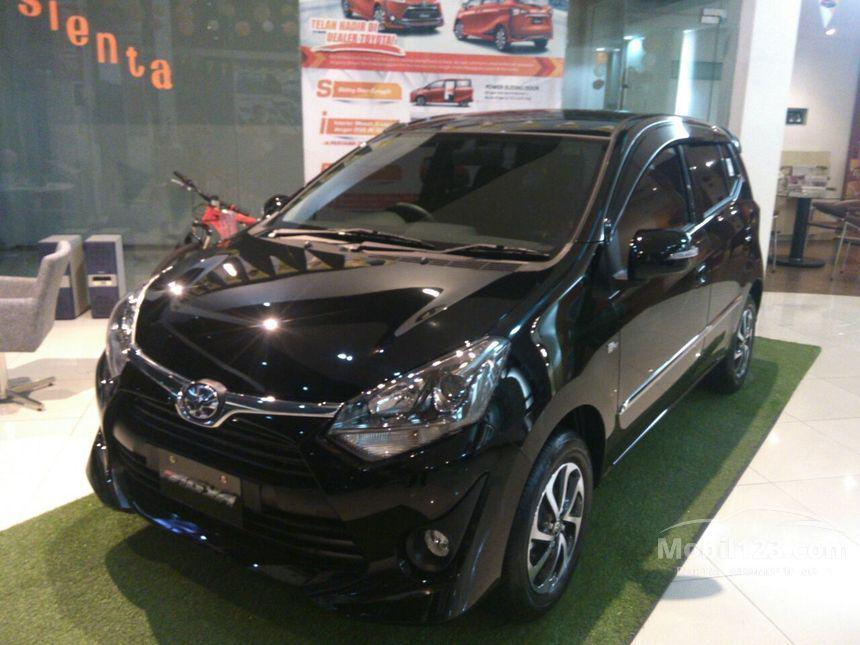mobil: (65, 86, 815, 626)
